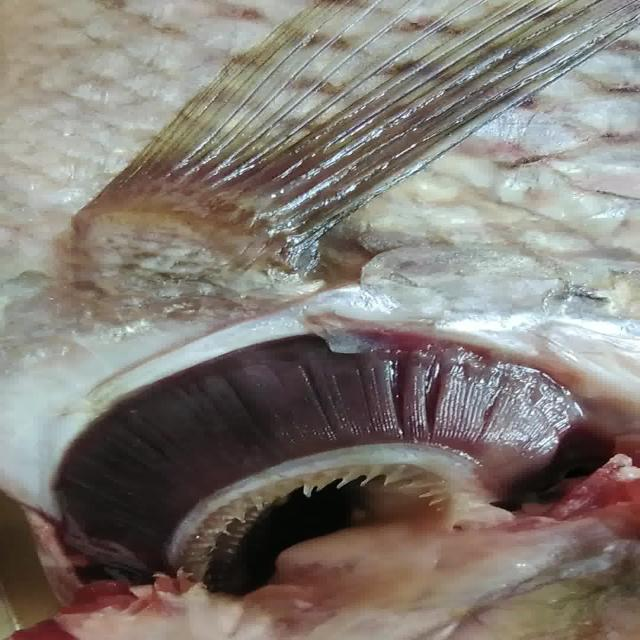Non-Fresh: (71, 331, 597, 607)
